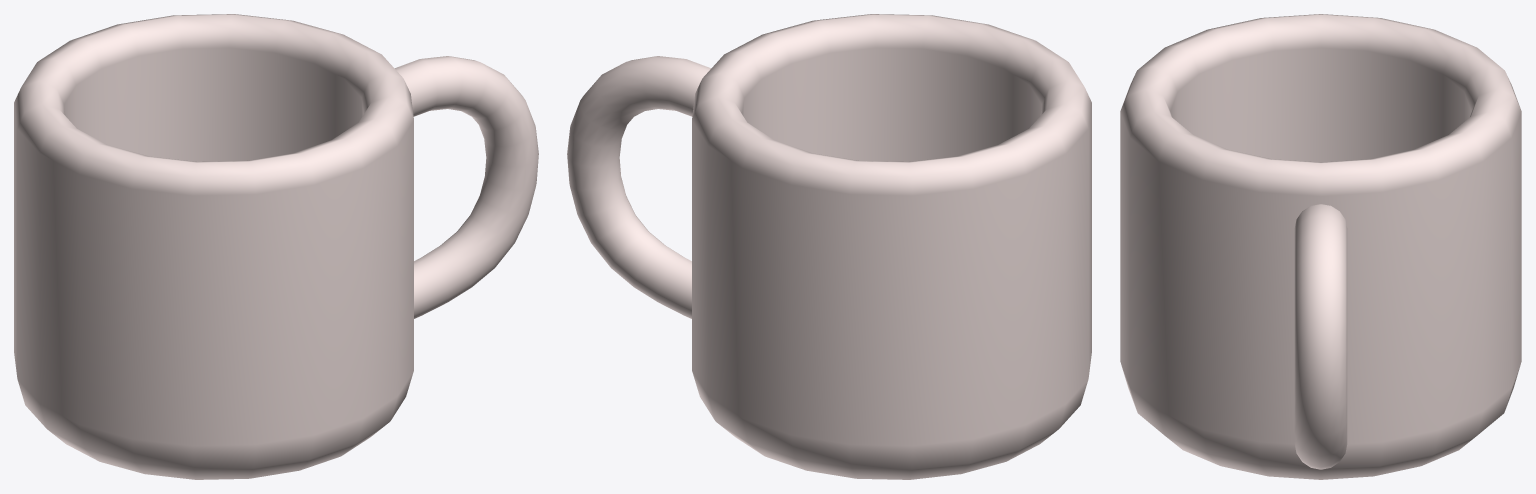
Rendered from Mug_1.fbx.
3 renders of one model, left to right at view 1: azimuth 30°, elevation 25°; view 2: azimuth 150°, elevation 25°; view 3: azimuth 270°, elevation 25°, orthographic.
Visible parts, largest first — view 1: Mug_1; view 2: Mug_1; view 3: Mug_1.
Part boxes in pixels (bbox=[...]): Mug_1: bbox=[14, 14, 538, 479]; Mug_1: bbox=[567, 14, 1091, 479]; Mug_1: bbox=[1120, 14, 1521, 479].
Size of the model in its own units: 22.19 by 13.97 by 15.6.
